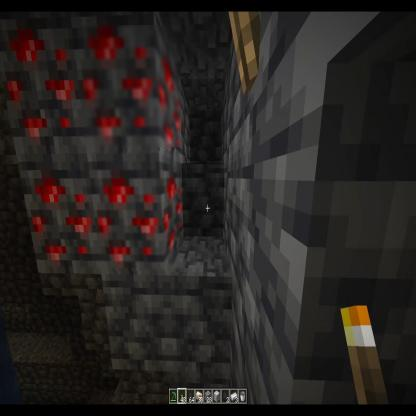redstone ore: (79, 25, 181, 147), (88, 151, 182, 271), (6, 11, 83, 140), (16, 154, 97, 275)
